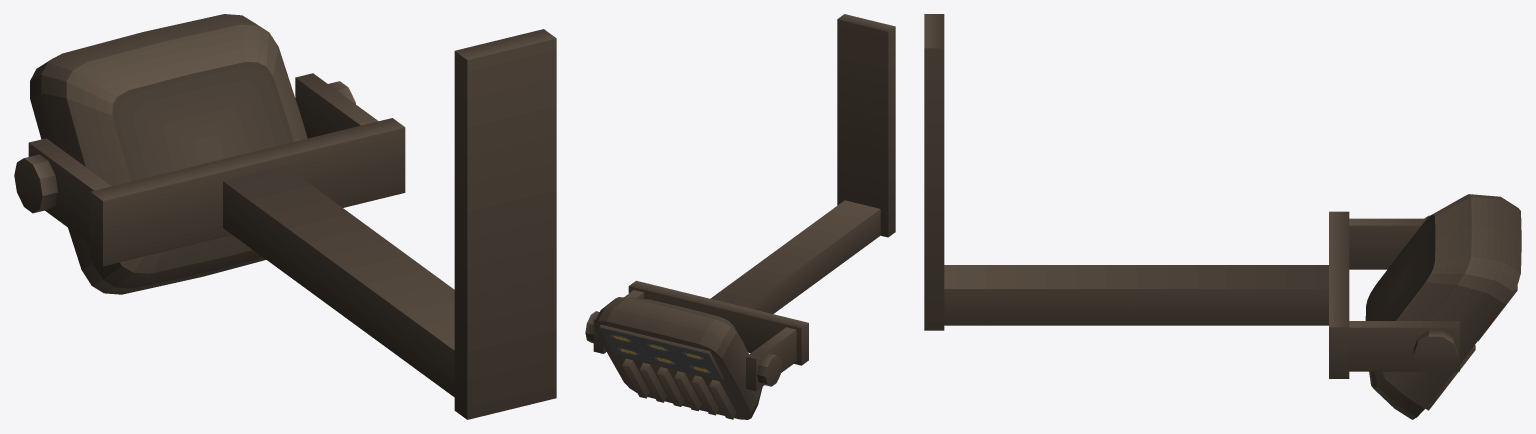
File: floodlight_lithdsxf1yk_x.obj
3 renders of one model, left to right at view 1: azimuth 30°, elevation 25°; view 2: azimuth 150°, elevation 25°; view 3: azimuth 270°, elevation 25°, orthographic. The views are drawn at different scales.
Visible parts, largest first — view 1: fixture; view 2: fixture; view 3: fixture.
Part boxes in pixels (left/top/right/bottom): fixture: left=14, top=14, right=556, bottom=419; fixture: left=585, top=14, right=895, bottom=419; fixture: left=924, top=14, right=1521, bottom=419.
Size of the model in its own units: 0.442 by 0.6062 by 0.9224.
